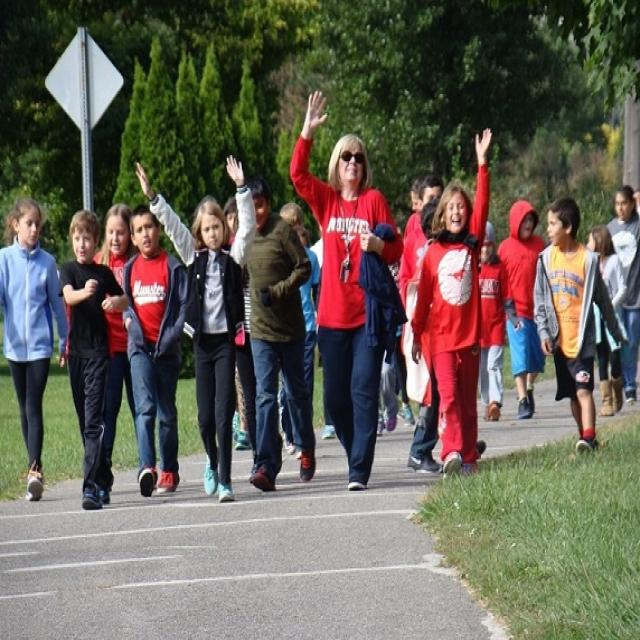body: (286, 87, 411, 496), (132, 149, 260, 503), (406, 124, 499, 486), (529, 192, 629, 460), (237, 179, 318, 495), (53, 203, 133, 513), (85, 200, 162, 500), (0, 191, 72, 506), (409, 191, 486, 476), (119, 201, 192, 500), (395, 170, 448, 437), (278, 198, 324, 462), (496, 197, 548, 422), (372, 222, 418, 440), (476, 217, 524, 423), (584, 220, 630, 420), (605, 183, 640, 404), (232, 339, 258, 473), (305, 216, 328, 300), (319, 358, 340, 439), (219, 191, 241, 252), (404, 173, 427, 218), (222, 194, 240, 245), (240, 263, 250, 340)
